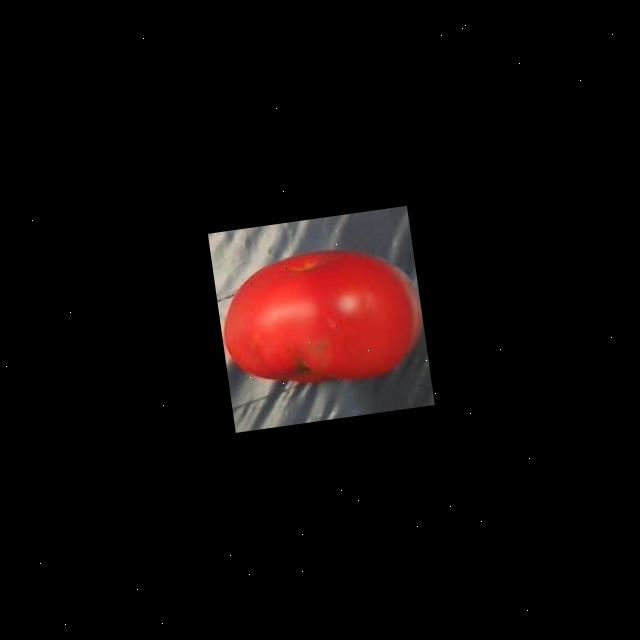tomato: (211, 237, 428, 400)
